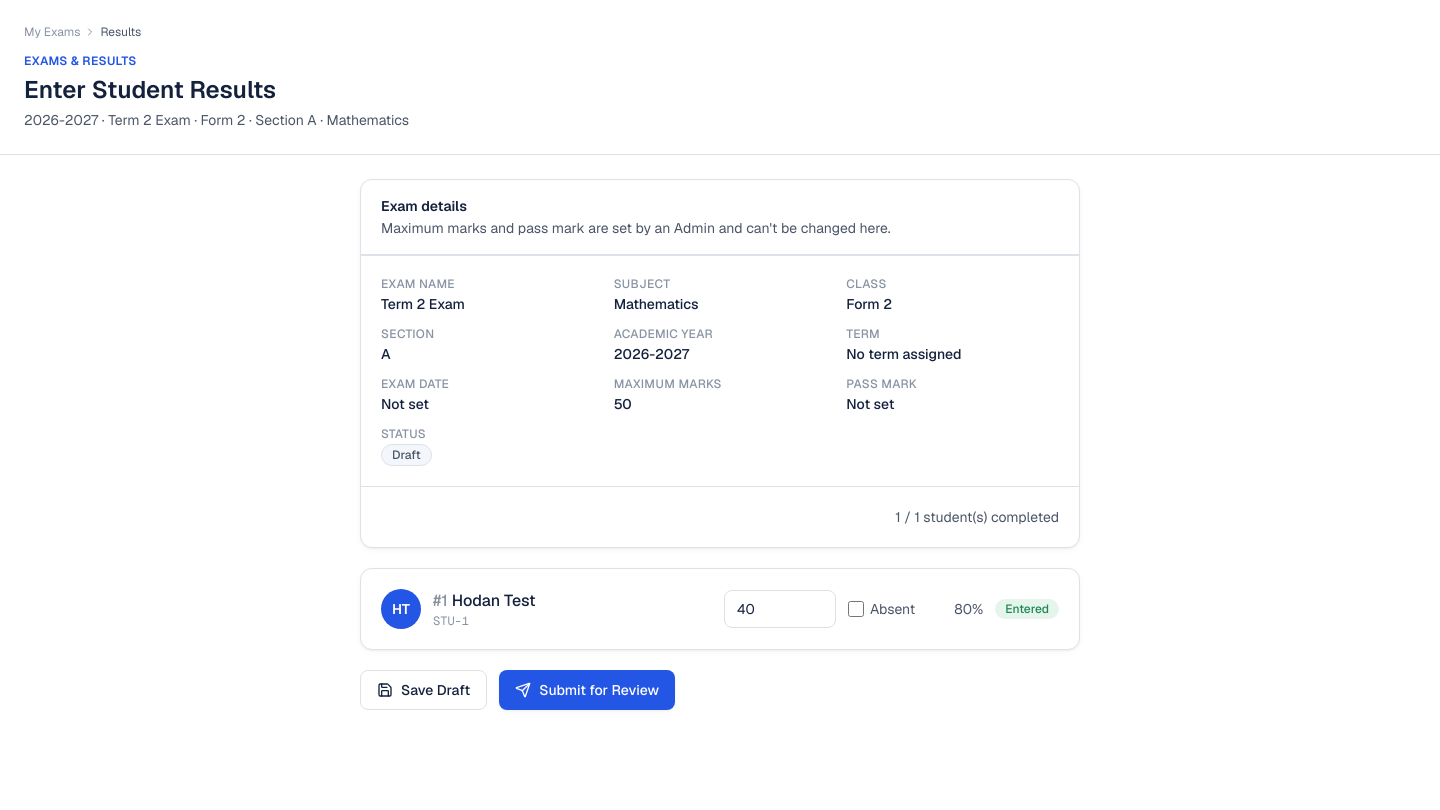
it: Results page — teacher entering and correcting marks › marking a student Absent clears and disables their mark box — absence and a mark can't both be entered
Expected: the text "Term 2 Exam" is shown, [381,295,465,313]
Expected: the number field named "Mark for Hodan Test" holds "40", [724,590,836,628]
Click the checkbox named "Absent: Hodan Test".
click(856, 609)  # box [848,601,864,617]
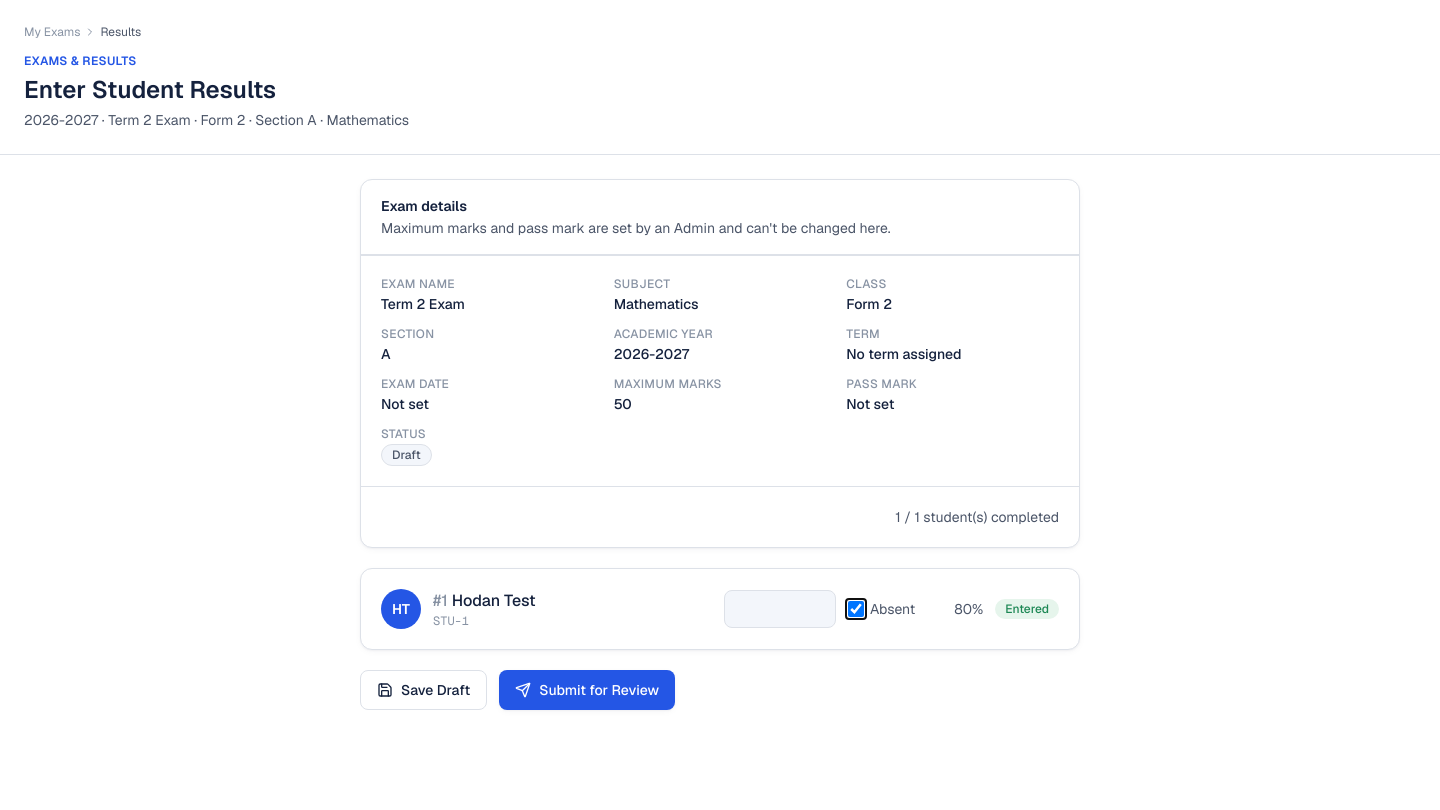
Expected: the number field named "Mark for Hodan Test" is empty, [724,590,836,628]
Expected: the number field named "Mark for Hodan Test" is disabled, [724,590,836,628]
